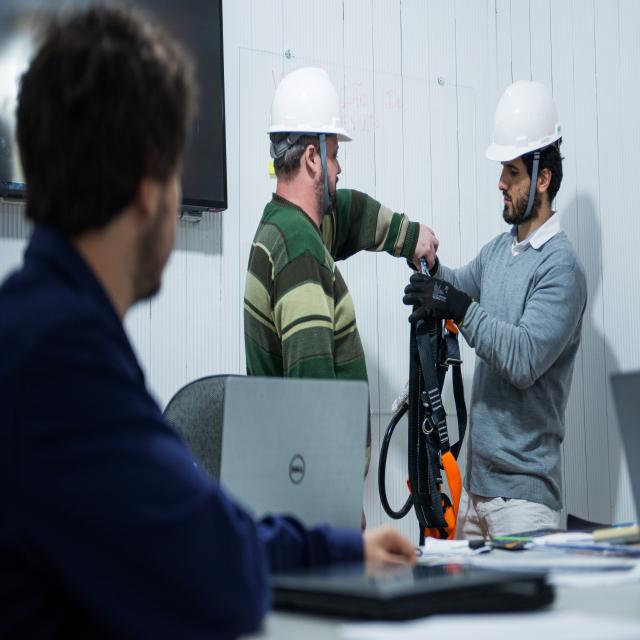capacete: (482, 77, 566, 164), (264, 65, 353, 145)
luva: (401, 272, 473, 336)
